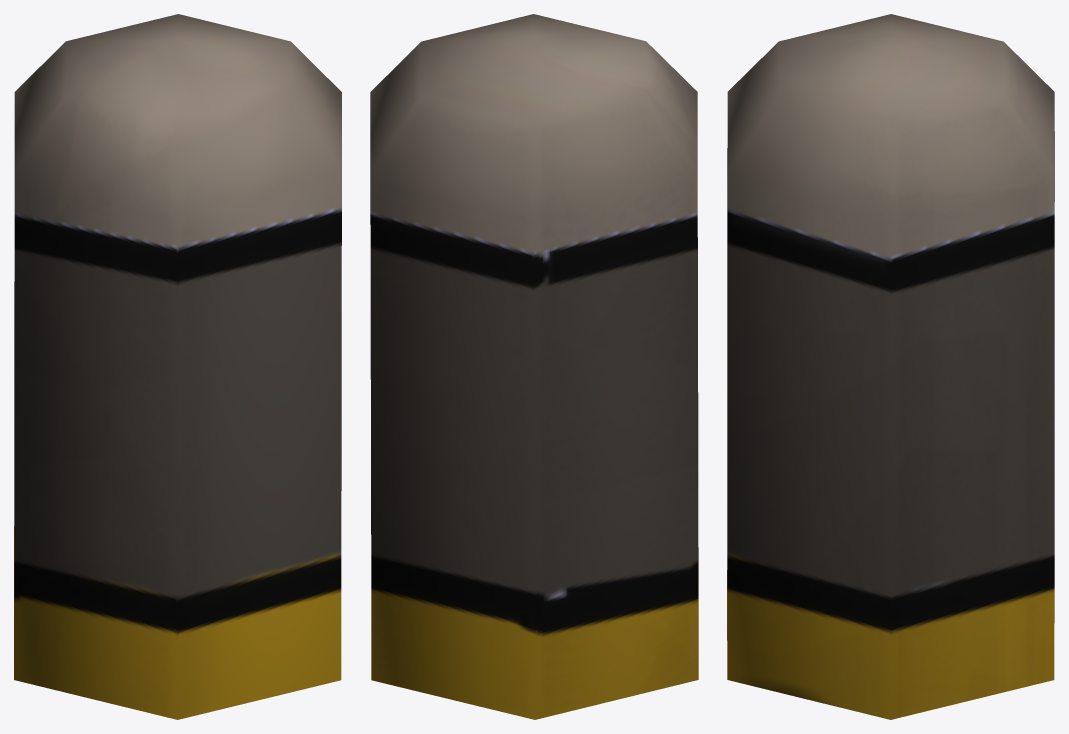
File: Bullet_Light_01.FBX
3 renders of one model, left to right at view 1: azimuth 30°, elevation 25°; view 2: azimuth 150°, elevation 25°; view 3: azimuth 270°, elevation 25°, orthographic.
Visible parts, largest first — view 1: Bullet_Light_01; view 2: Bullet_Light_01; view 3: Bullet_Light_01.
Part boxes in pixels (<box>): Bullet_Light_01: <box>14,14,341,719</box>; Bullet_Light_01: <box>370,14,698,719</box>; Bullet_Light_01: <box>727,14,1054,719</box>.
Size of the model in its own units: 8.69 by 7.51 by 15.15.
